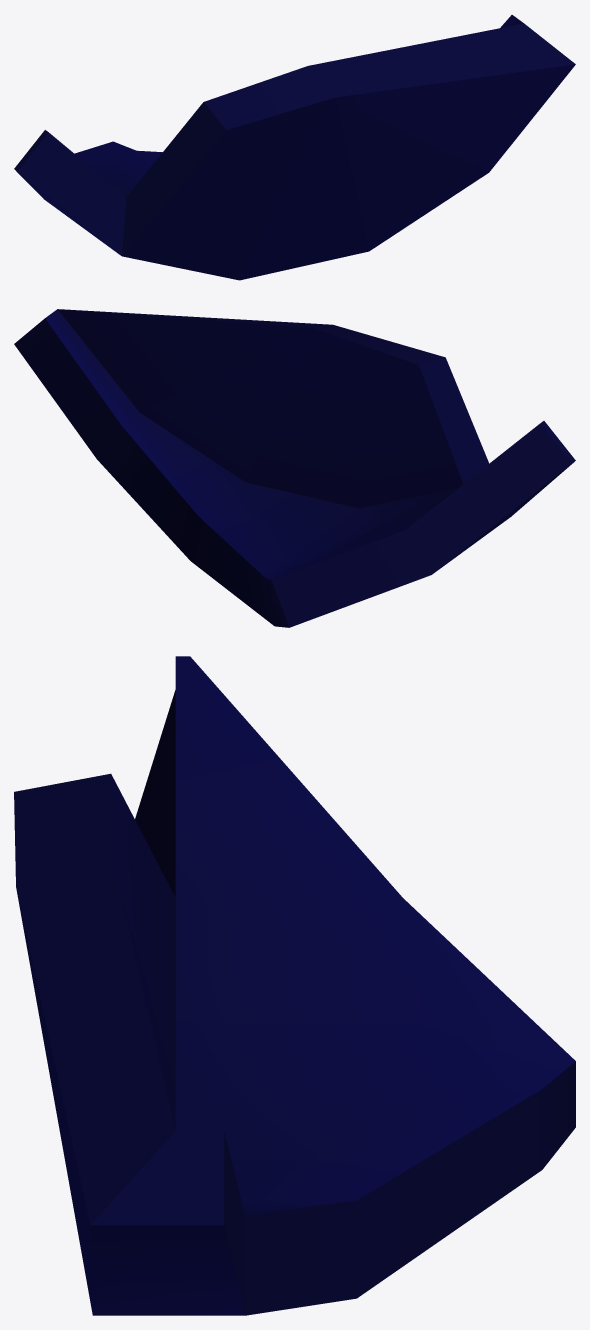
Rendered from BrokenGlassShard003.glb.
3 views of the same model, one above another, from view 1: azimuth 30°, elevation 25°; view 2: azimuth 150°, elevation 25°; view 3: azimuth 270°, elevation 25° (orthographic). The views are drawn at different scales.
Parts seen in each view (by area): view 1: BrokenGlassShard003; view 2: BrokenGlassShard003; view 3: BrokenGlassShard003.
Boxes of the visible parts, <box> form: BrokenGlassShard003: <box>14,15,575,280</box>; BrokenGlassShard003: <box>14,309,575,627</box>; BrokenGlassShard003: <box>14,656,575,1315</box>.
Bounding box in the file's own units: 0.4953 × 0.173 × 0.2261.
